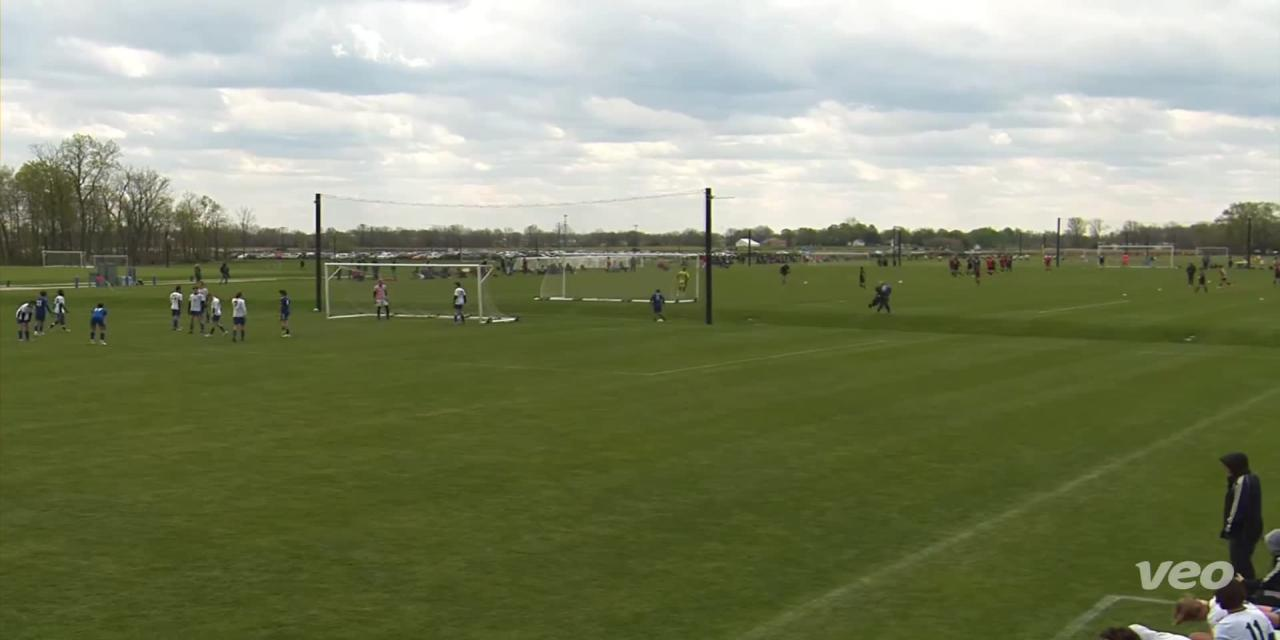goal: (313, 255, 523, 330)
sports ball: (652, 312, 668, 326)
